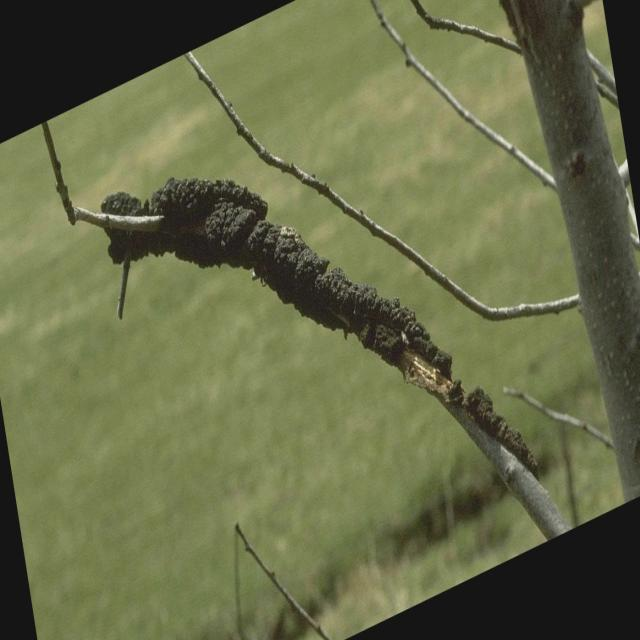Black_knot: (69, 151, 542, 480)
